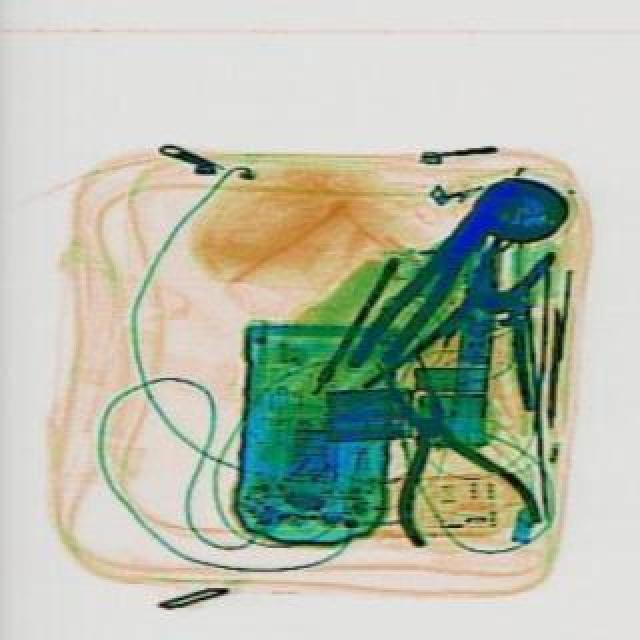wrench: (358, 210, 596, 444), (334, 334, 542, 566), (344, 170, 522, 378)
